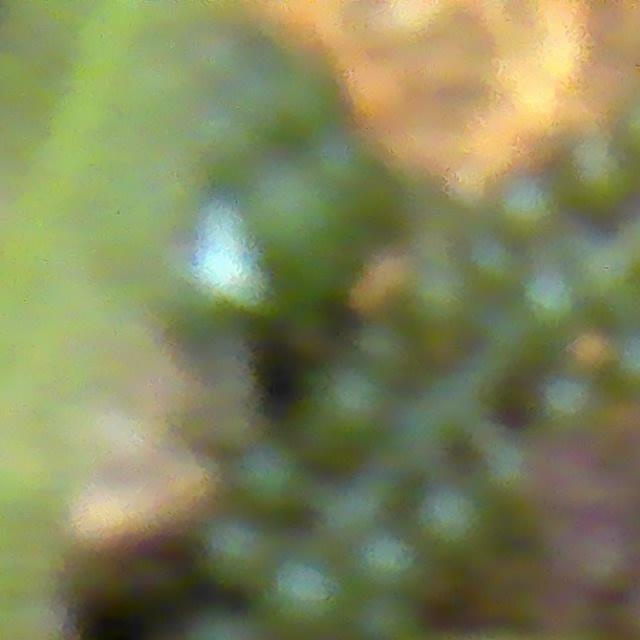SeaGrape: (245, 162, 360, 297), (261, 556, 343, 640), (557, 138, 637, 220), (306, 372, 379, 445), (197, 519, 269, 591), (351, 528, 422, 596), (235, 437, 302, 507), (410, 258, 472, 332), (420, 486, 487, 553), (517, 268, 581, 335), (495, 173, 560, 238), (356, 594, 425, 640), (541, 376, 595, 432), (463, 243, 522, 291), (354, 330, 405, 381), (484, 445, 525, 484)
